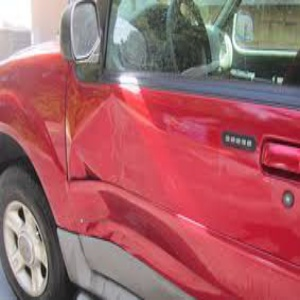door: (65, 159, 242, 278)
